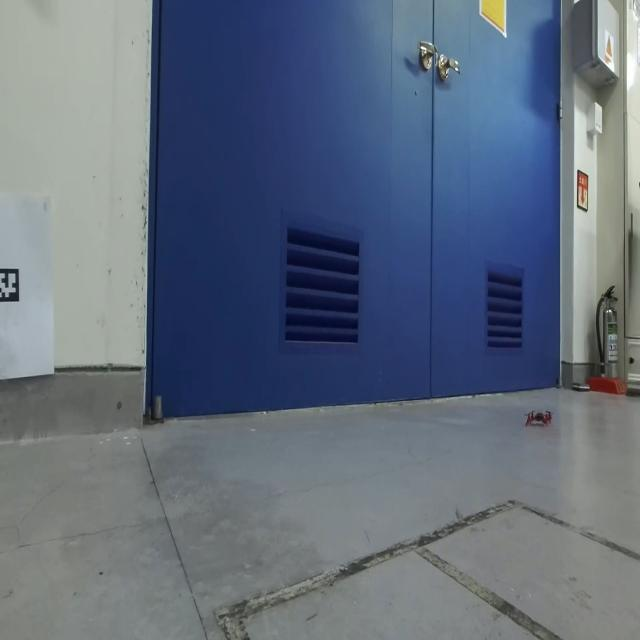crazyflie: (524, 403, 557, 437)
